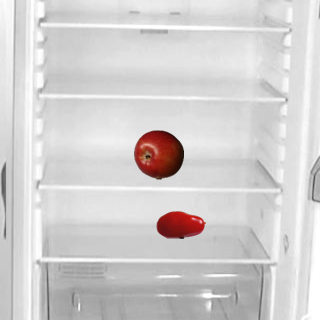Apple Braeburn: (133, 129, 183, 179)
Tomato 2: (155, 199, 205, 249)
